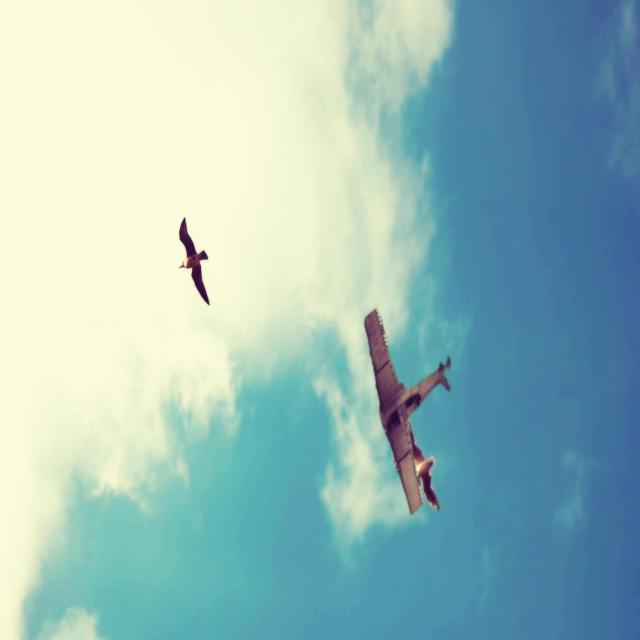airplane: (364, 307, 452, 514), (178, 216, 210, 306)
